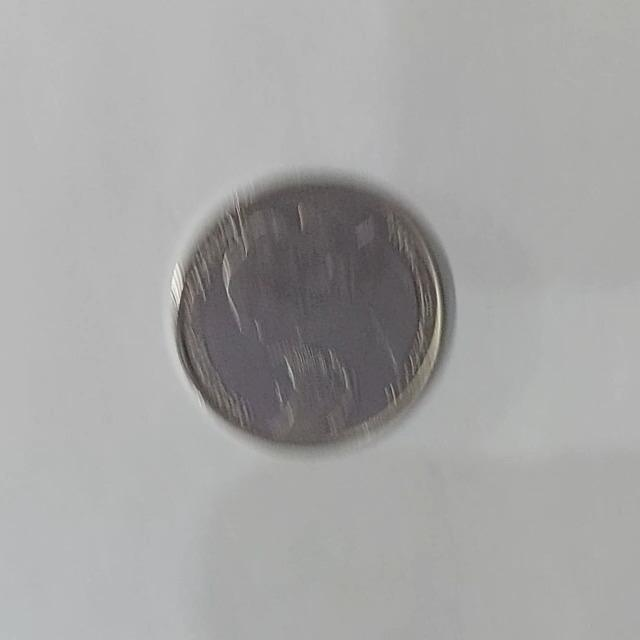Rp100: (168, 169, 448, 451)
